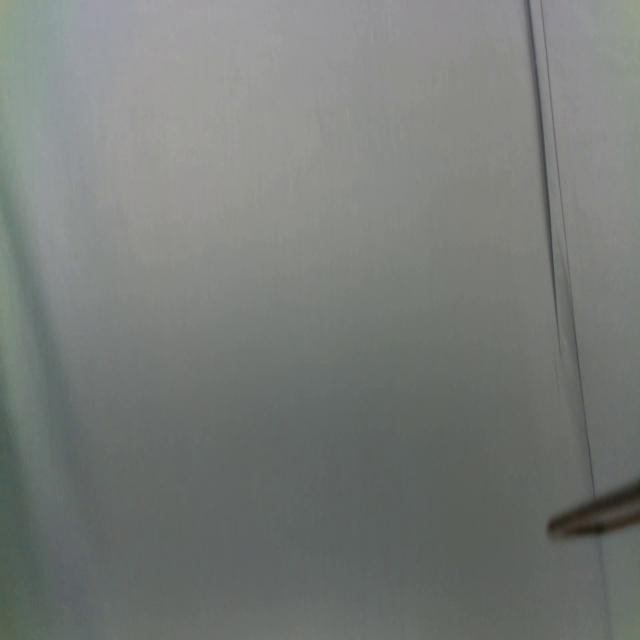crease: (541, 0, 596, 496), (527, 0, 561, 361)
